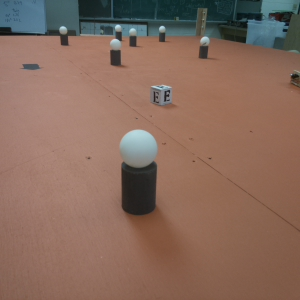blockE: (150, 84, 173, 110)
corner: (197, 9, 209, 36)
obstacle: (120, 129, 159, 220), (109, 39, 122, 68), (198, 36, 210, 61), (59, 26, 69, 45), (158, 25, 167, 45), (128, 28, 137, 48), (116, 23, 125, 43)
start: (19, 61, 45, 73), (289, 70, 300, 90)
